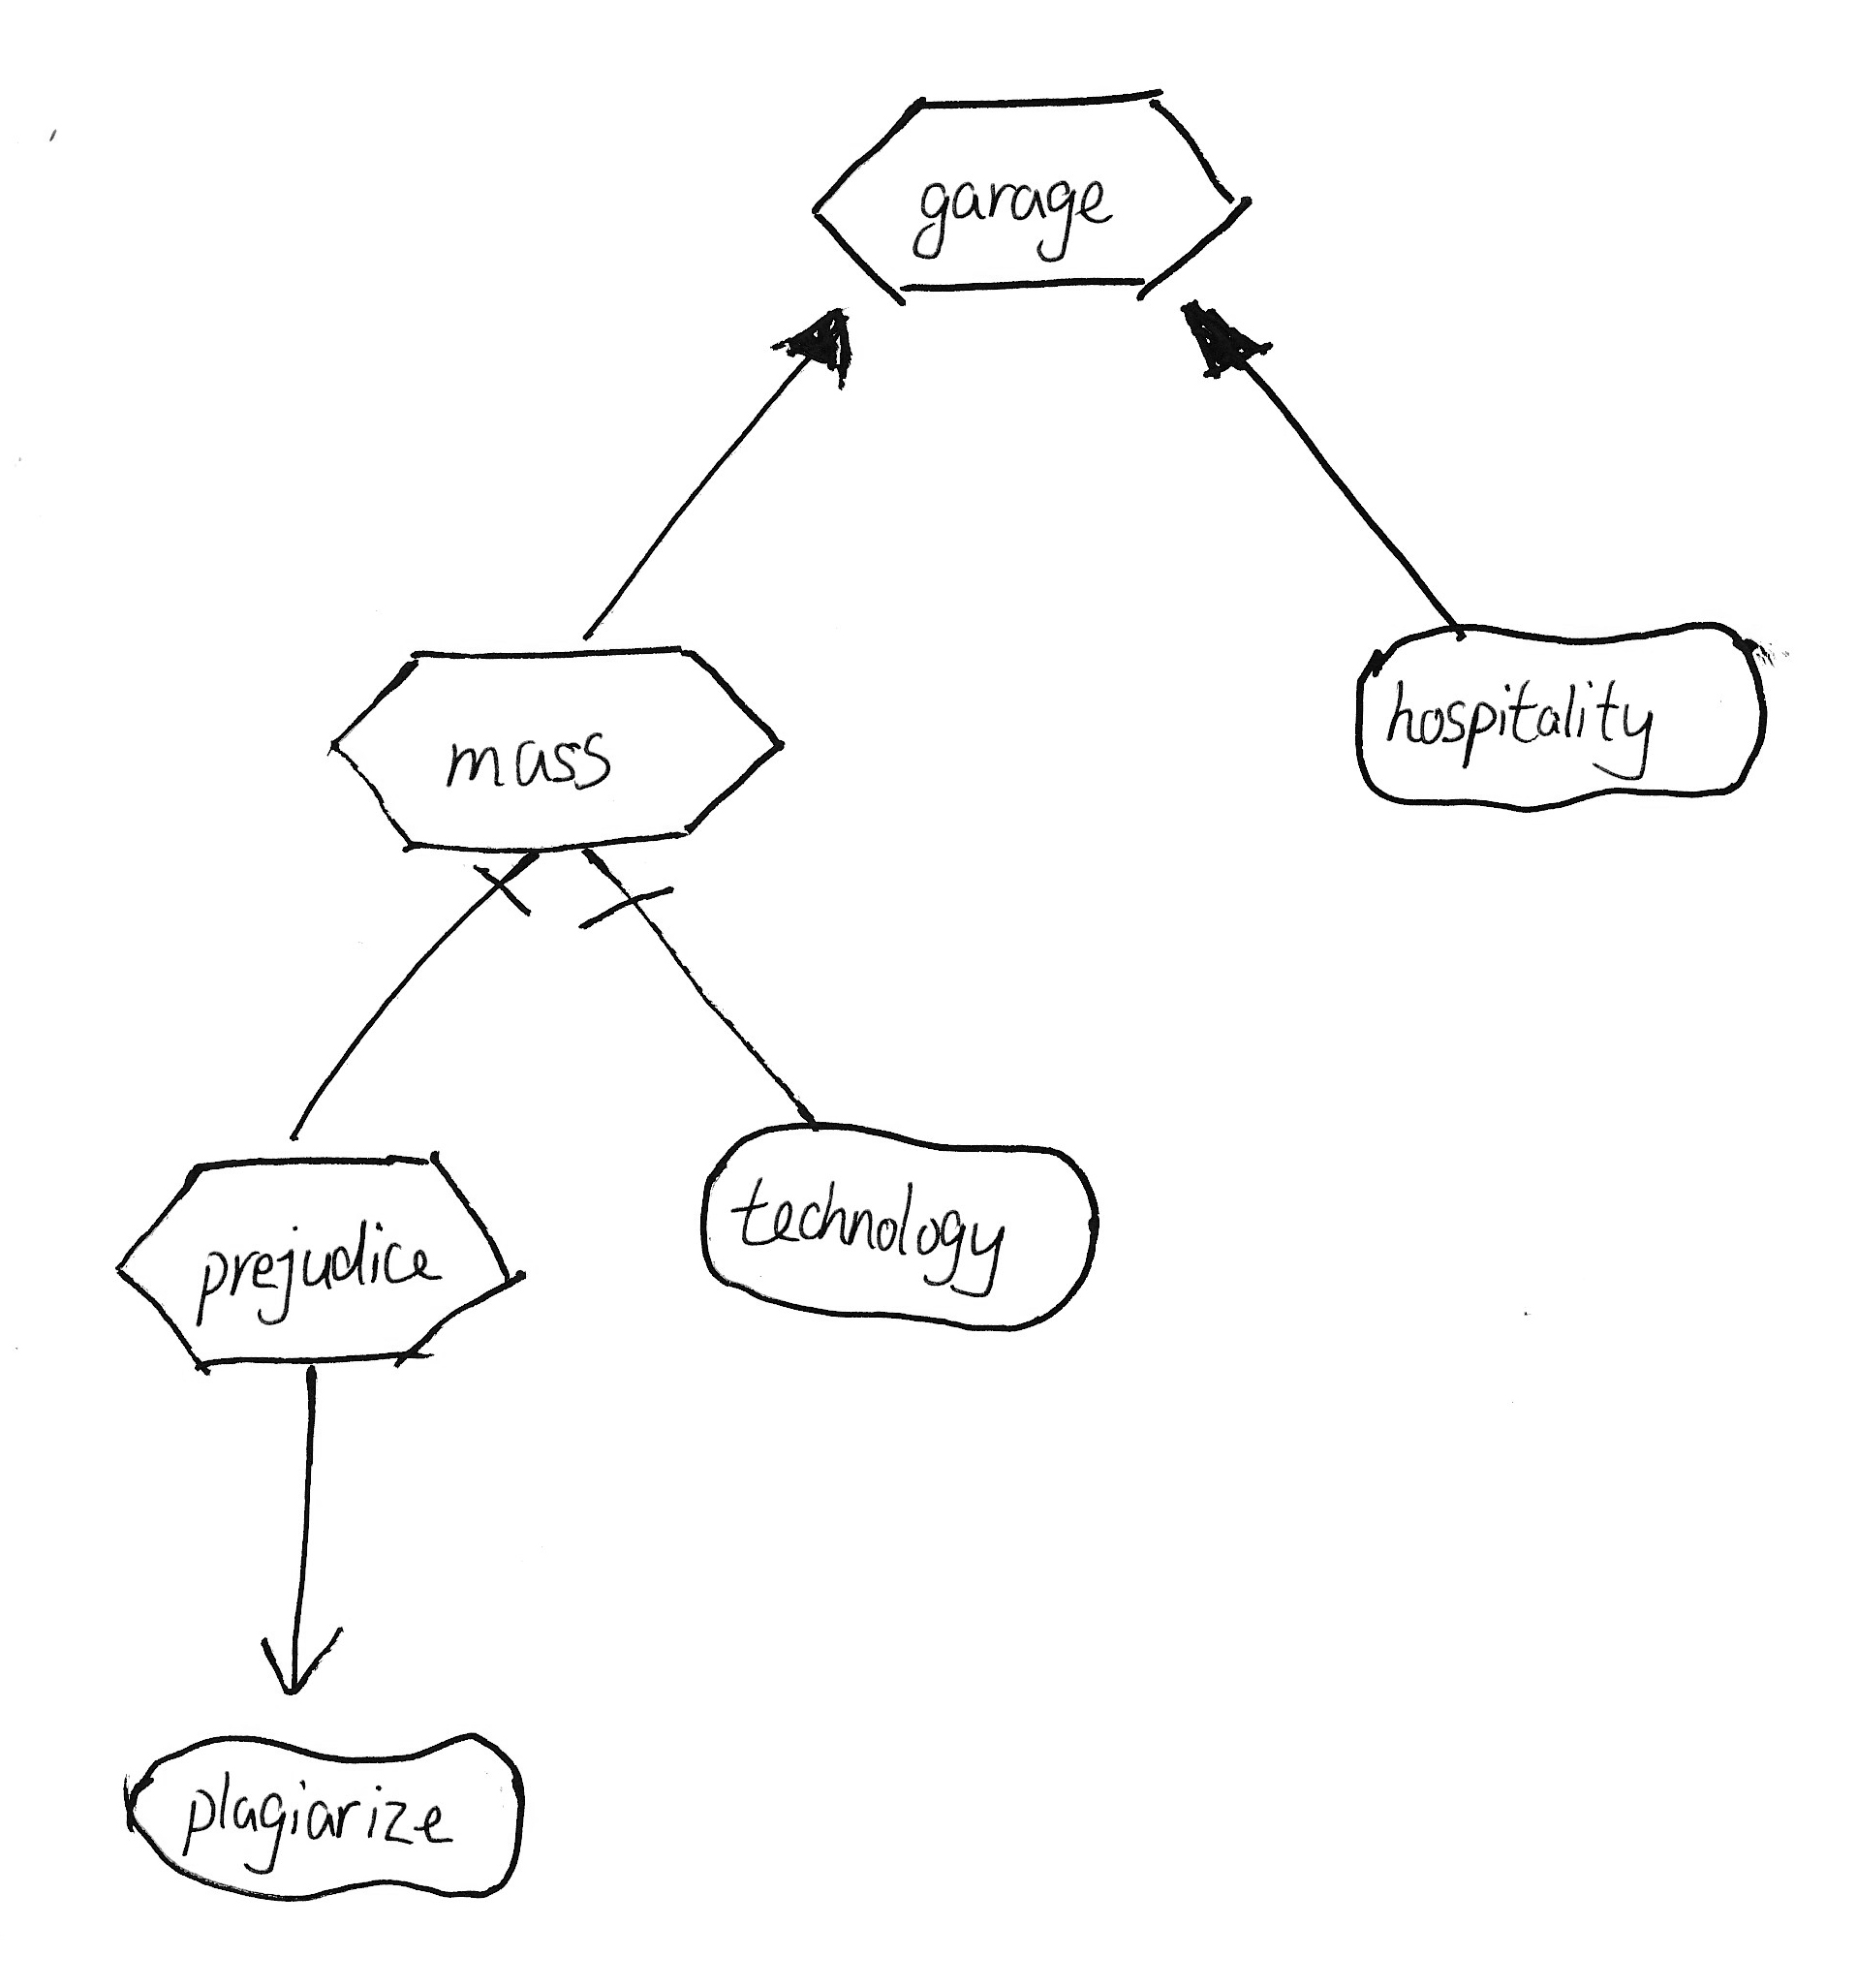and: (571, 853, 693, 963), (466, 853, 557, 944)
arrow: (243, 1611, 360, 1710)
or: (1168, 290, 1292, 393), (768, 291, 867, 408)
quality: (684, 1105, 1115, 1349), (1339, 611, 1785, 826), (110, 1719, 546, 1913)
task: (314, 627, 801, 874), (799, 65, 1262, 319), (91, 1138, 545, 1389)
